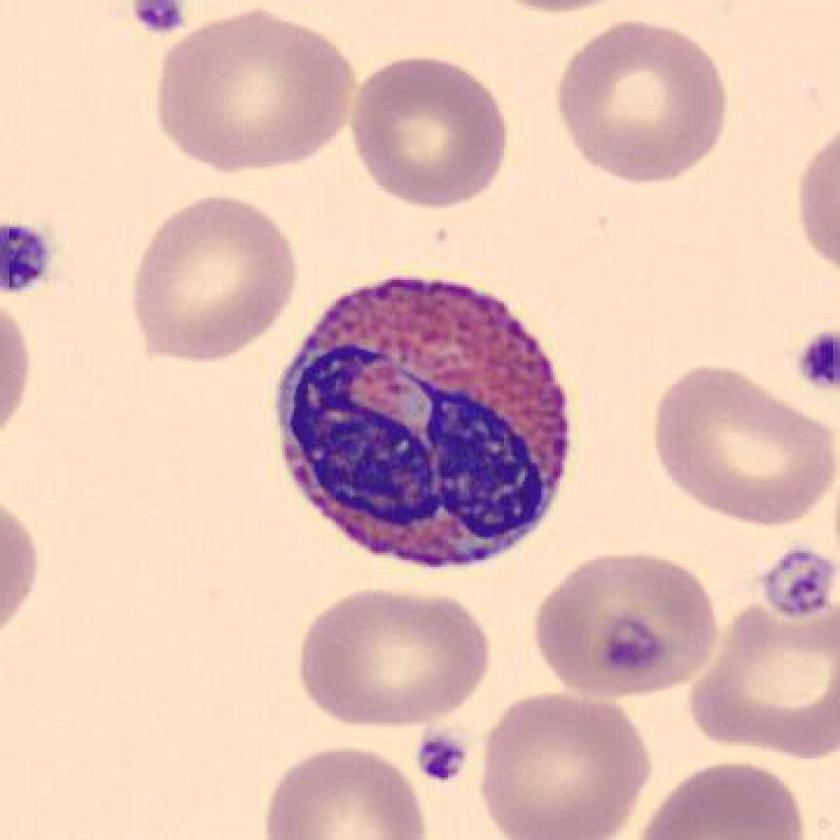eosinophil: (262, 265, 582, 584)
